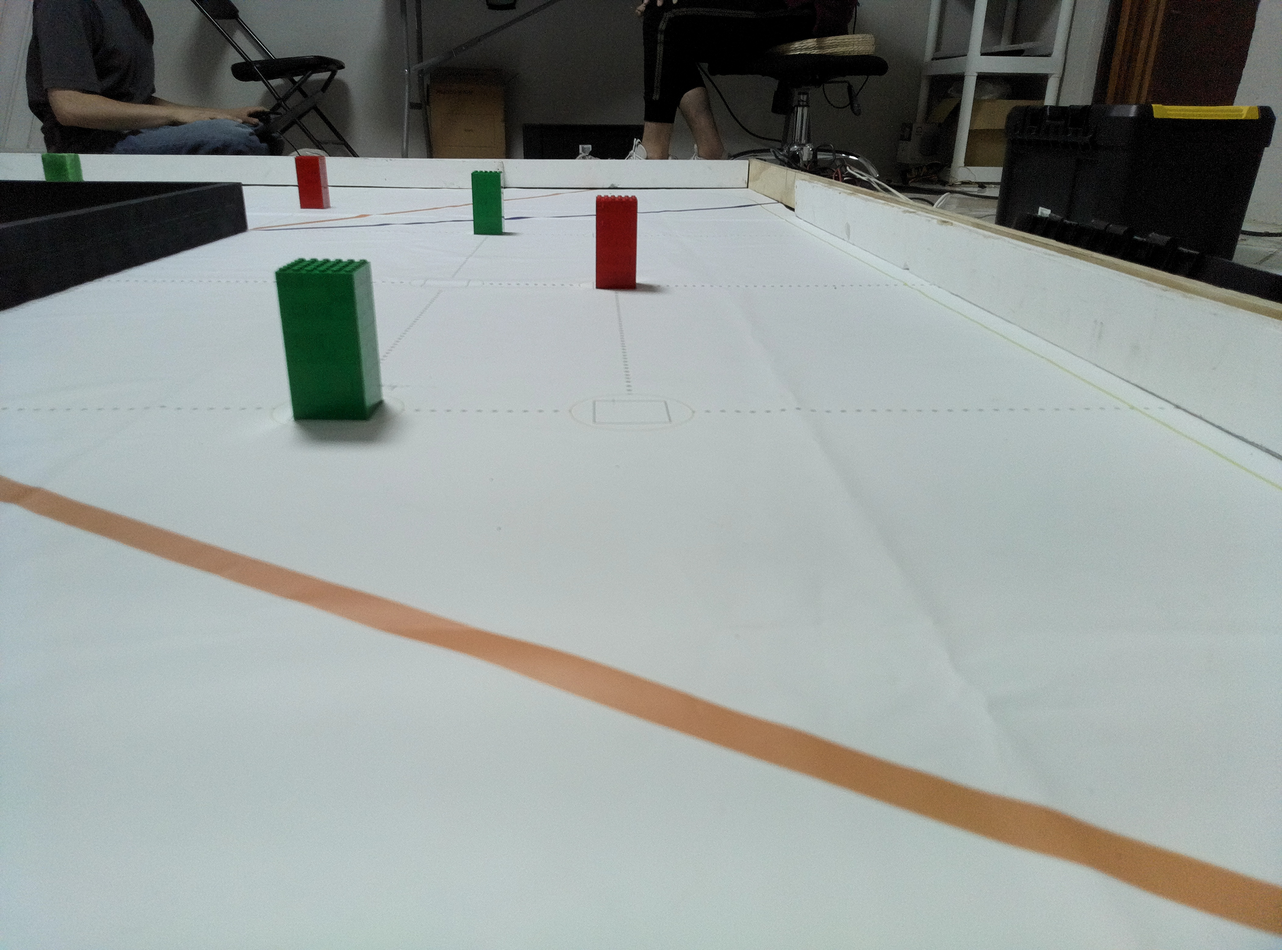greenbox: (271, 259, 387, 422), (473, 170, 504, 234), (41, 151, 89, 184)
redbox: (596, 197, 638, 291), (293, 154, 333, 209)
